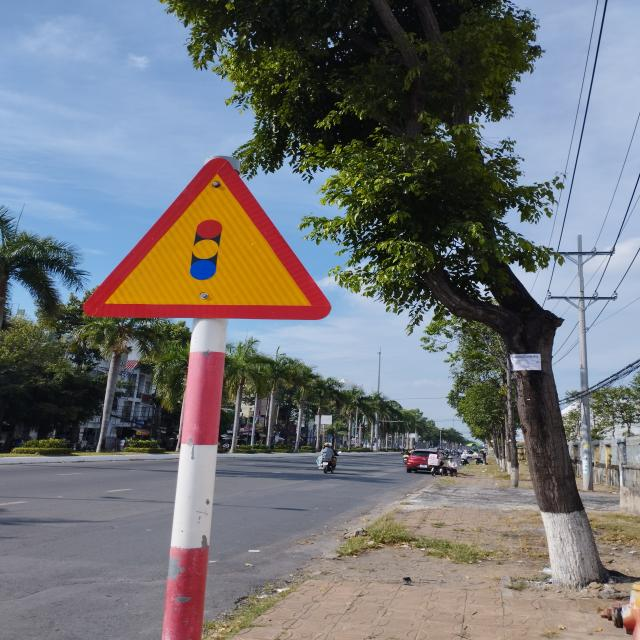Duong_Co_Go_Giam_Toc: (83, 157, 330, 319)
